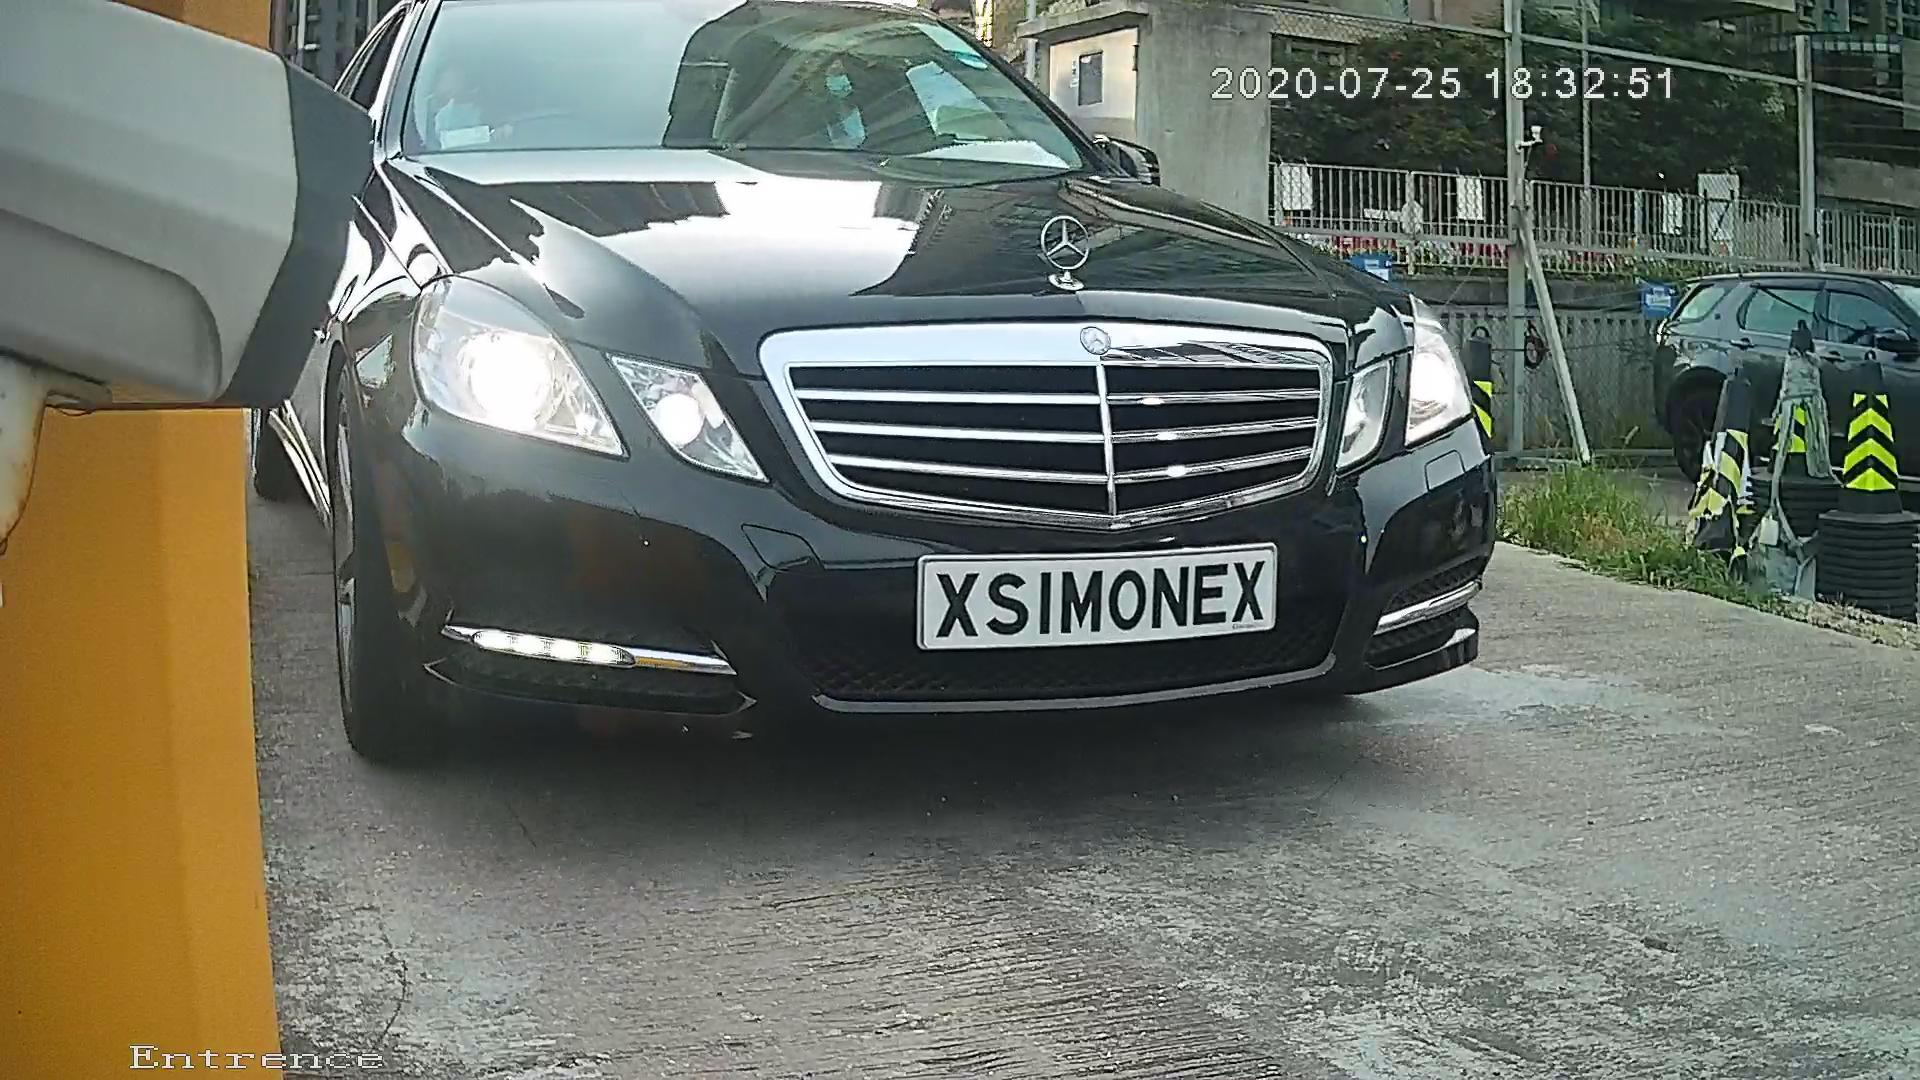privatecar: (223, 1, 1621, 811)
